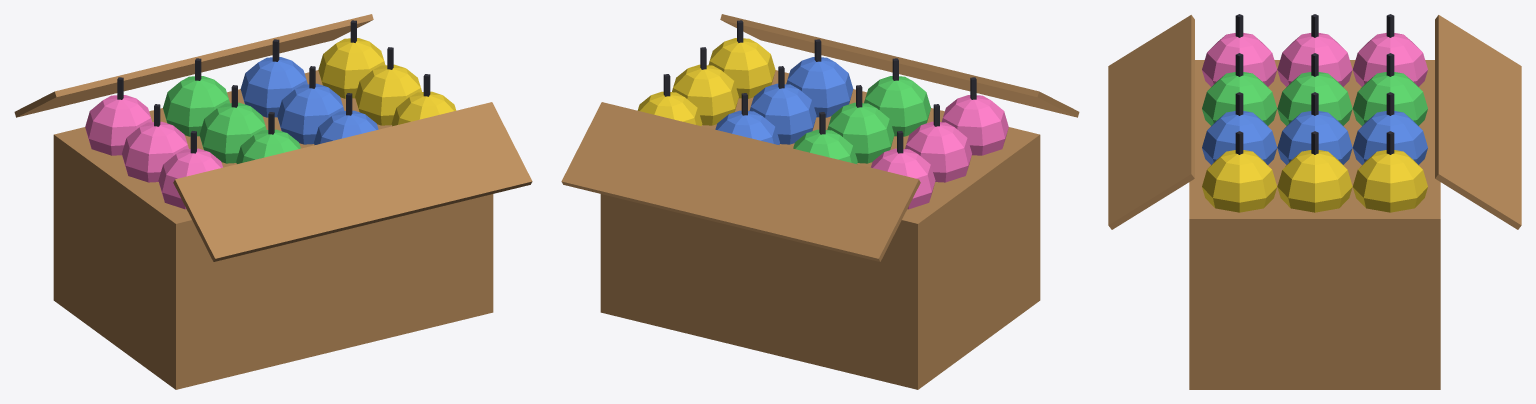
The model's file is smoke_box.glb.
The picture shows the model from 3 angles, left to right: view 1: azimuth 30°, elevation 25°; view 2: azimuth 150°, elevation 25°; view 3: azimuth 270°, elevation 25°; orthographic projection. The views are drawn at different scales.
Visible parts, largest first — view 1: box_smoke_card, flaps_smoke_card, bombs; view 2: box_smoke_card, flaps_smoke_card, bombs; view 3: box_smoke_card, bombs, flaps_smoke_card.
Part boxes in pixels (x1,y1,x2,y2): box_smoke_card: (53, 70, 493, 389); flaps_smoke_card: (14, 14, 532, 261); bombs: (85, 38, 456, 209); box_smoke_card: (600, 70, 1040, 389); flaps_smoke_card: (561, 14, 1079, 261); bombs: (637, 38, 1008, 209); box_smoke_card: (1189, 60, 1440, 389); bombs: (1202, 33, 1427, 212); flaps_smoke_card: (1108, 15, 1521, 229).
Bounding box in the file's own units: 0.6 × 0.415 × 0.6577.
